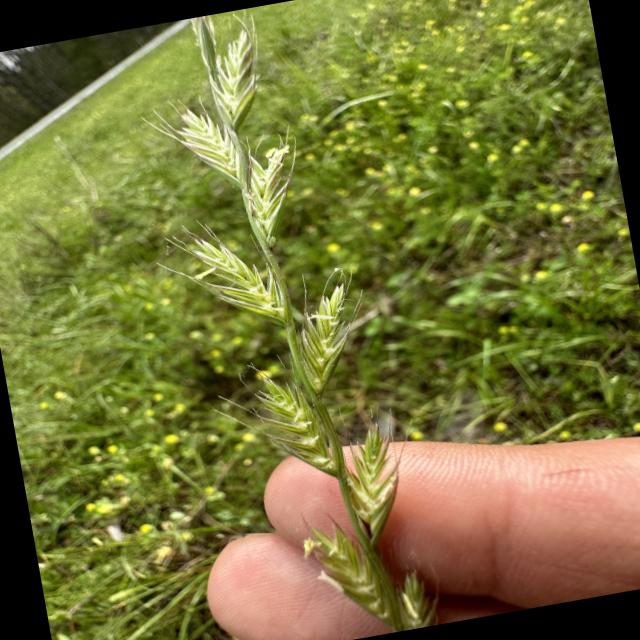Lolium: (113, 0, 443, 640)
